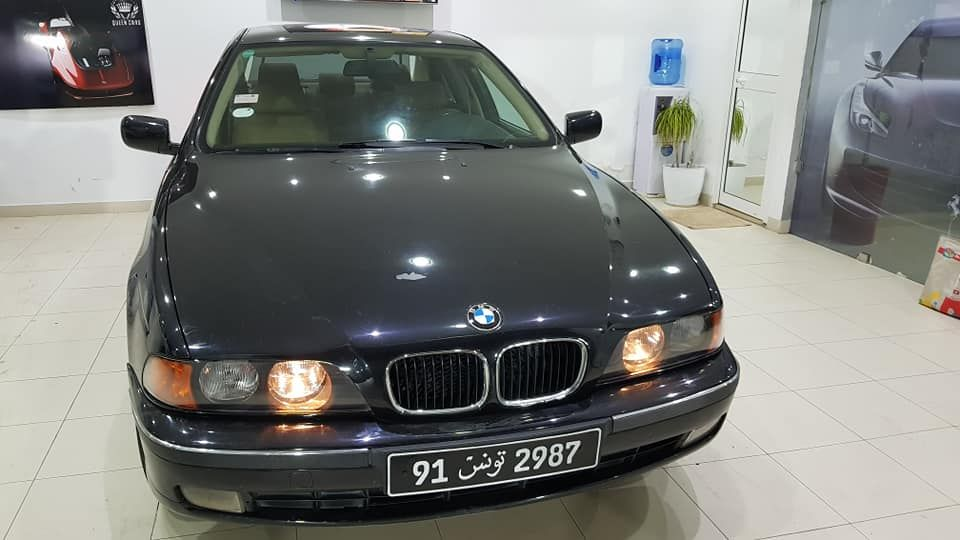LP: (389, 430, 604, 495)
